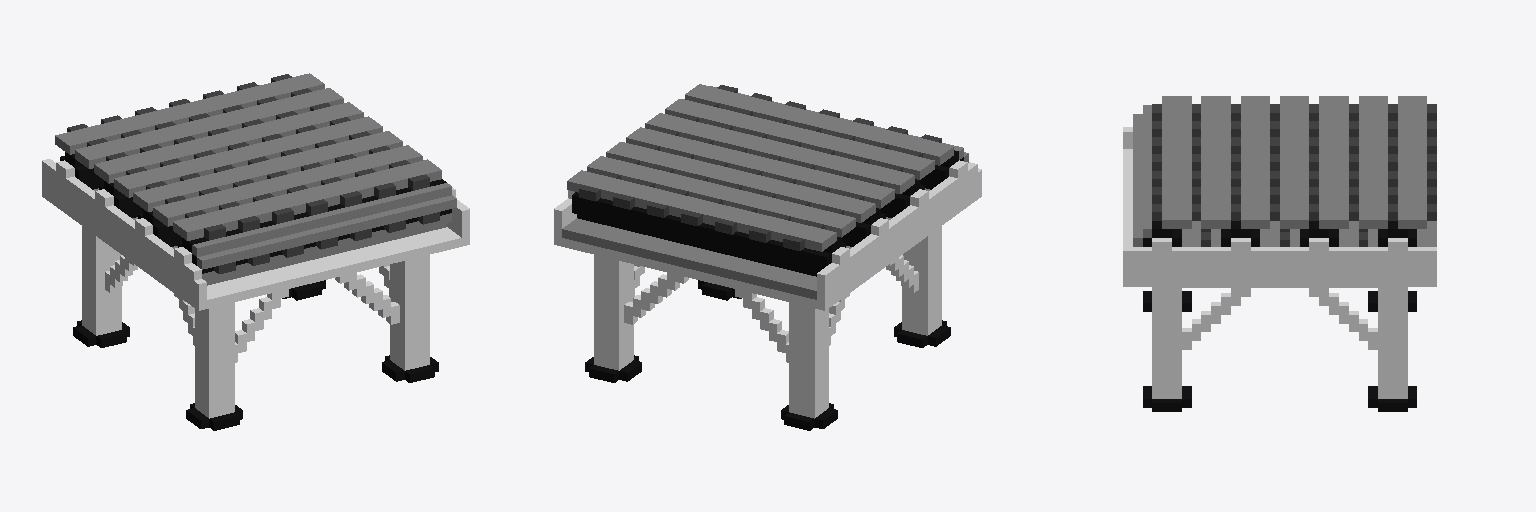
3 renders of one model, left to right at view 1: azimuth 30°, elevation 25°; view 2: azimuth 150°, elevation 25°; view 3: azimuth 270°, elevation 25°, orthographic.
Visible parts, largest first — view 1: object 1; view 2: object 1; view 3: object 1.
Part boxes in pixels (left/top/right/bottom): object 1: left=42, top=73, right=469, bottom=430; object 1: left=554, top=84, right=981, bottom=430; object 1: left=1123, top=96, right=1436, bottom=411.
Bounding box in the file's own units: 3.2 × 2.2 × 3.2.
Materials: 1 (1 with a texture image).